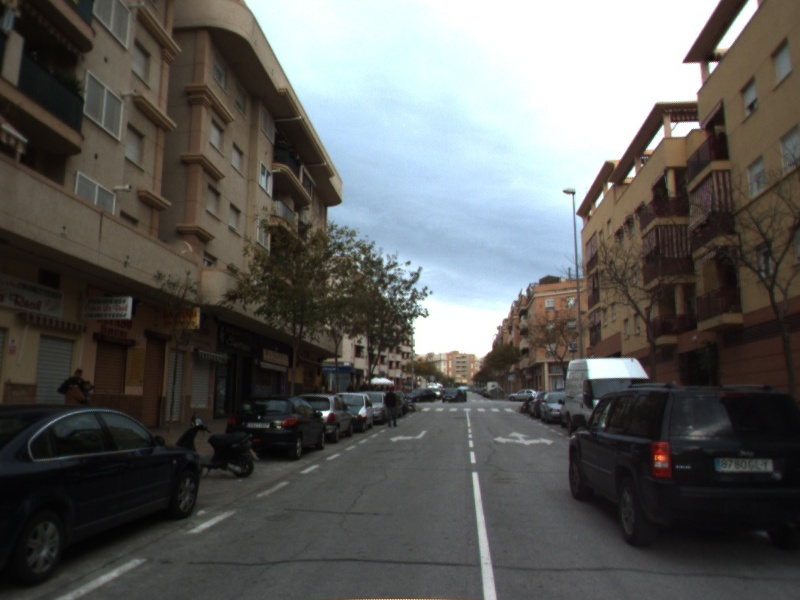STRAIGHT_LEFT_RIGHT: (491, 429, 556, 447)
